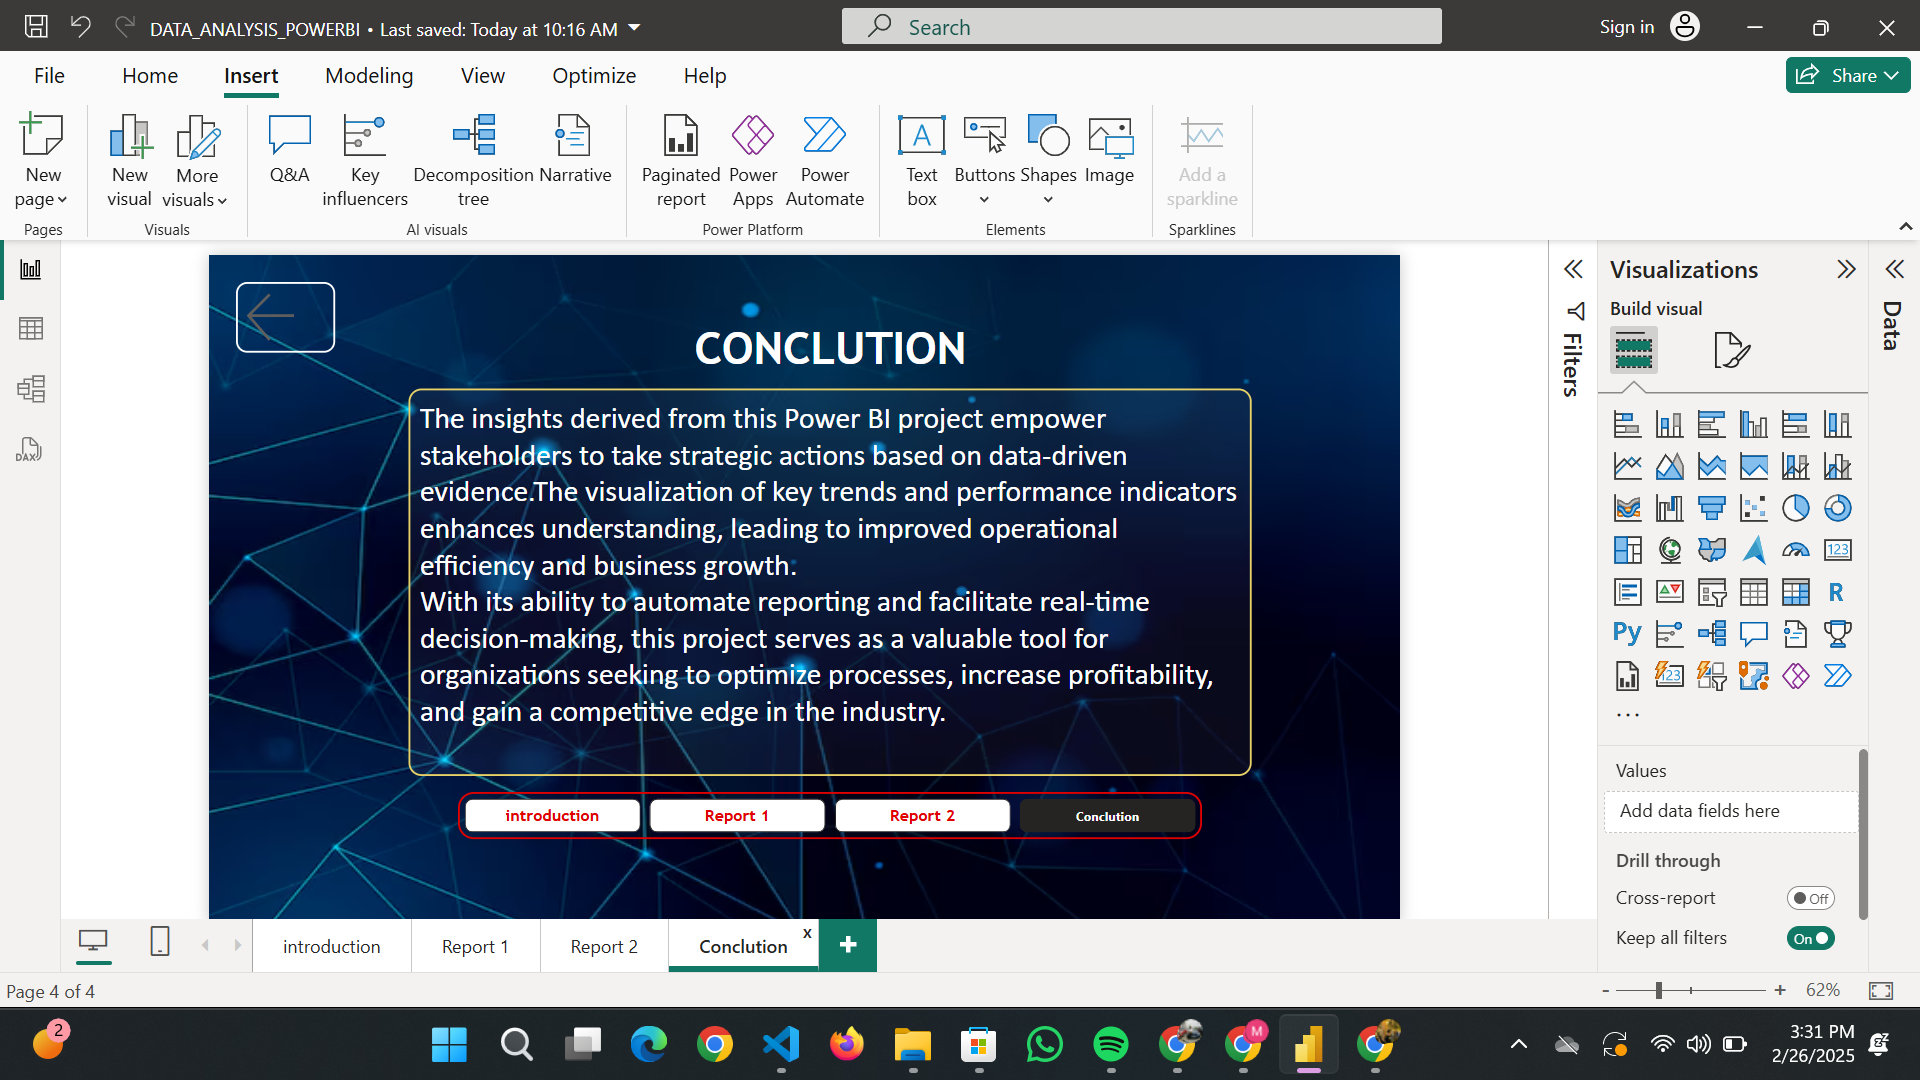

What the dashboard file says about the page in this screenshot:
{"tool":"powerbi","page":{"name":"Conclution","canvas":[1280,720],"ordinal":3},"visuals":[{"type":"textbox","box":[493.2,66.1,349.2,78],"z":1000},{"type":"pageNavigator","box":[267.8,578,800,50.8],"z":3000},{"type":"textbox","box":[215.3,144.1,906.8,416.9],"z":3001},{"type":"actionButton","box":[29,29,106.5,75.8],"z":3002}]}

Visuals, with their boxes on the page's 1280x720 design canvas (x1, y1, x2, y2). These are canvas units, not pixel positions in the 1920x1080 screenshot, which may show the page scaled, cropped or inside an application window:
textbox: 493/66/842/144
pageNavigator: 268/578/1068/629
textbox: 215/144/1122/561
actionButton: 29/29/136/105
